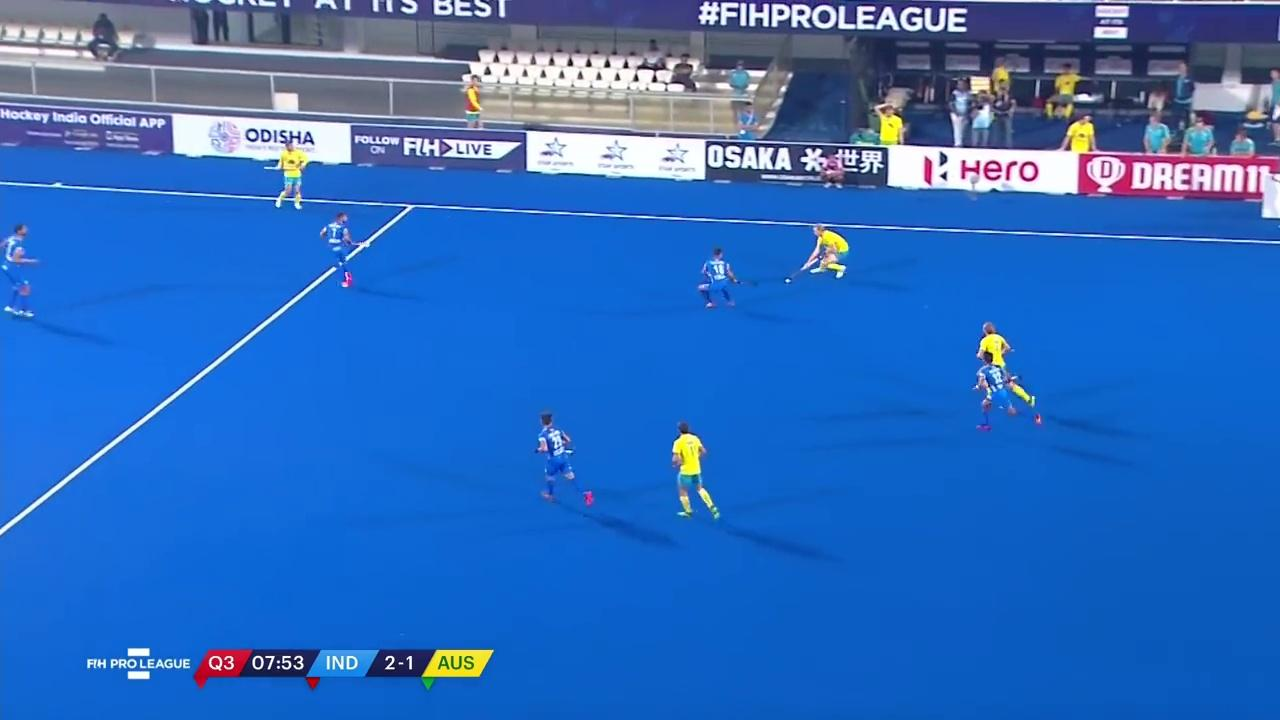ball: (779, 274, 796, 287)
